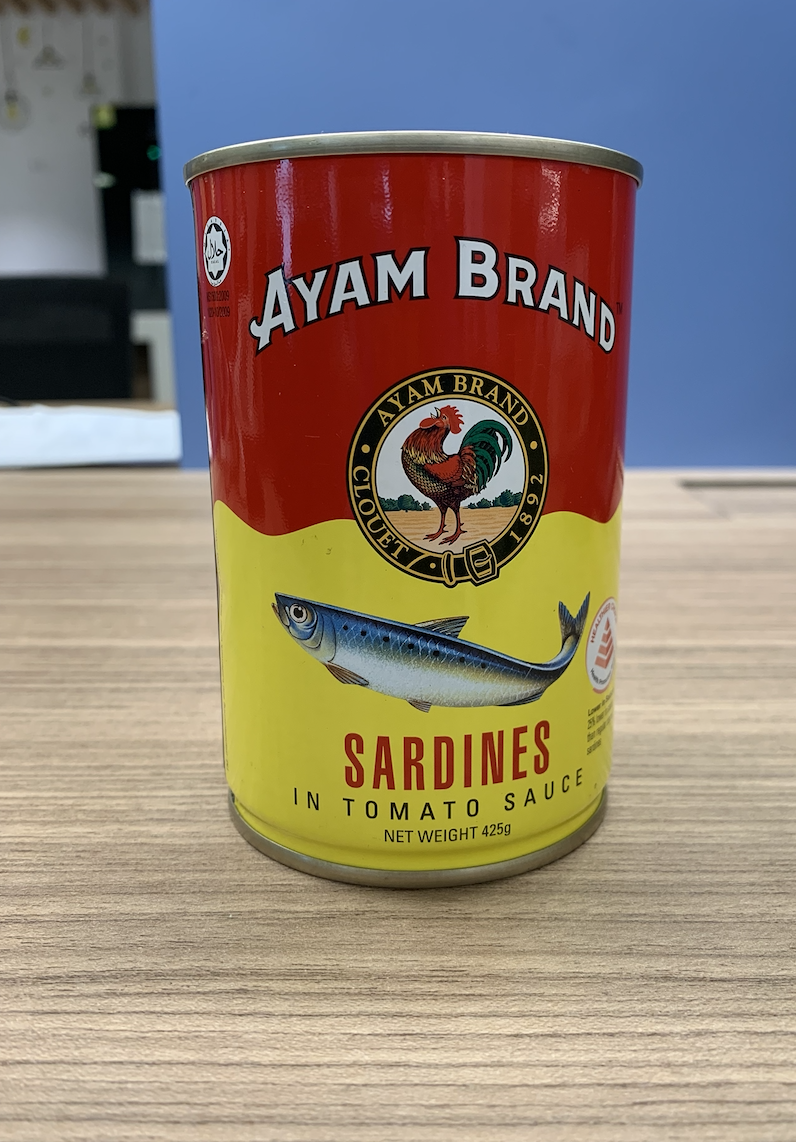sardines_400g-499g: (200, 165, 621, 847)
